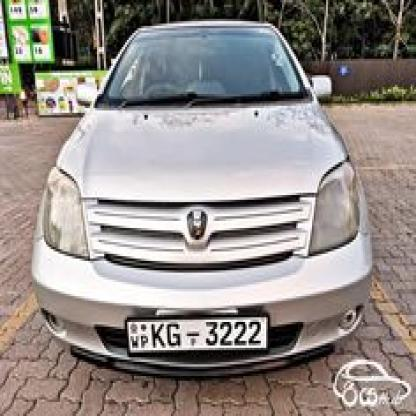car front: (29, 17, 381, 382)
number plate: (128, 321, 267, 348)
